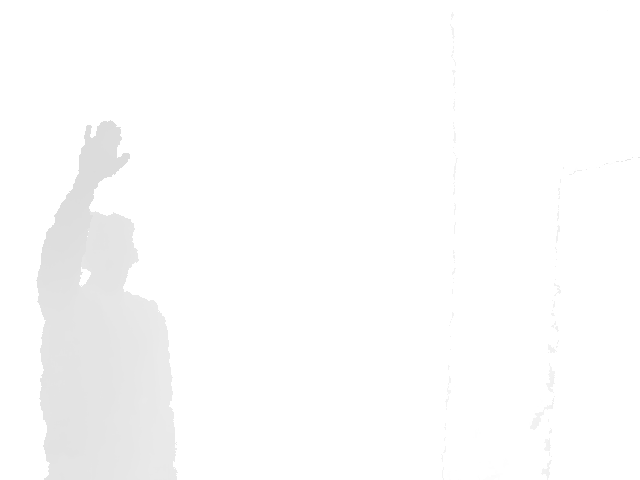hand: (76, 119, 131, 183)
head: (78, 210, 141, 284)
person: (34, 119, 180, 480)
